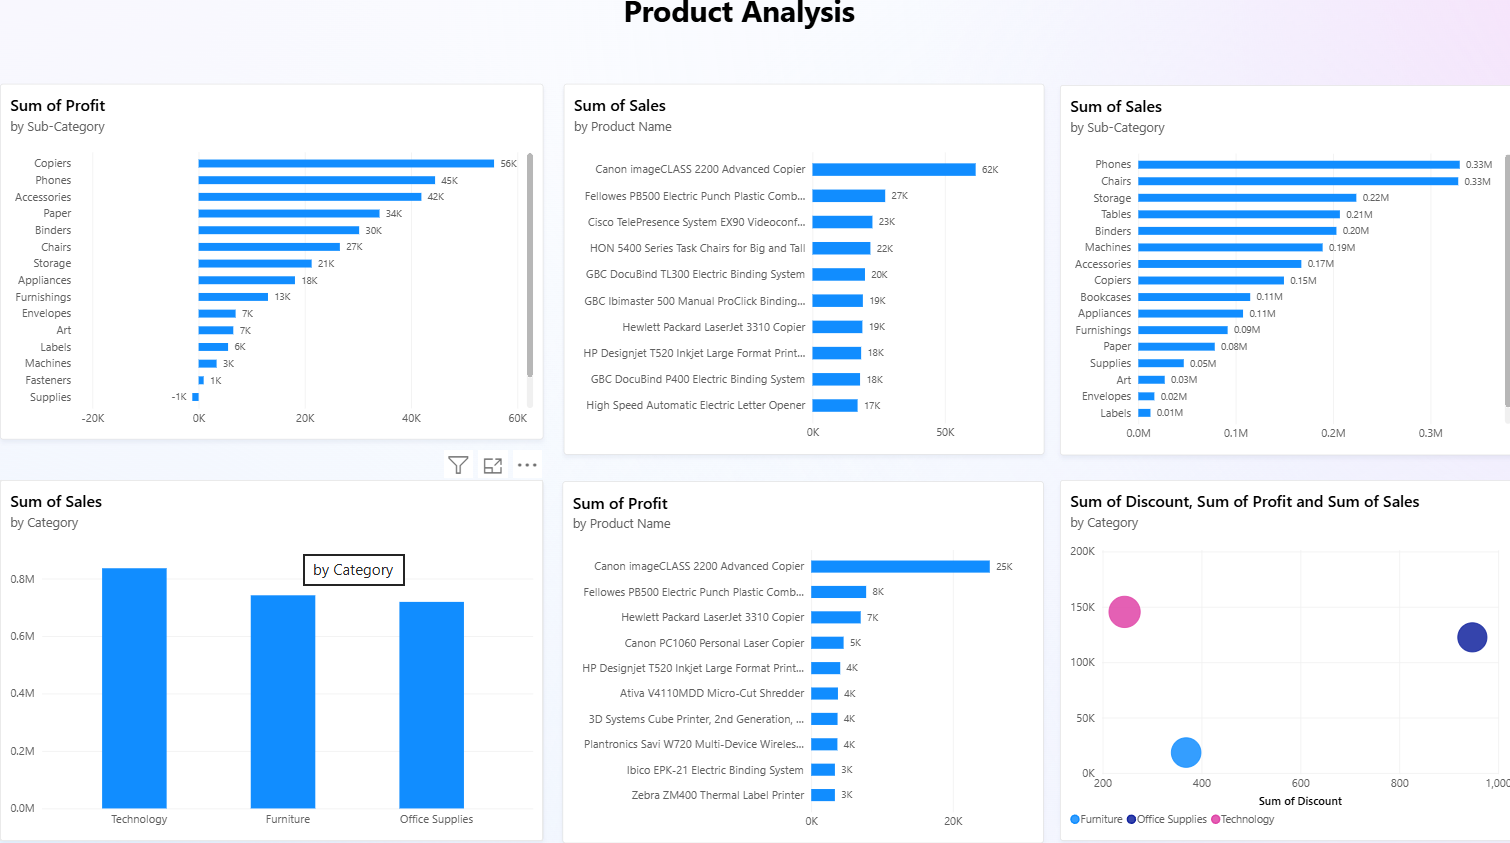

This screenshot's page, from the dashboard's own definition file:
{"tool":"powerbi","page":{"name":"Product Analysis","canvas":[1920,1080],"ordinal":1},"visuals":[{"type":"clusteredBarChart","fields":{"Category":["superstore_cleaned(1).Sub-Category"],"Y":["Sum(superstore_cleaned(1).Sales)"]},"box":[1337.5,120,582.5,467.2],"z":0},{"type":"clusteredBarChart","fields":{"Category":["superstore_cleaned(1).Sub-Category"],"Y":["Sum(superstore_cleaned(1).Profit)"]},"box":[0,118.5,685.9,449],"z":1},{"type":"clusteredColumnChart","fields":{"Category":["superstore_cleaned(1).Category"],"Y":["Sum(superstore_cleaned(1).Sales)"]},"box":[0,618.9,685.9,455.2],"z":2},{"type":"scatterChart","fields":{"Series":["superstore_cleaned(1).Category"],"Size":["Sum(superstore_cleaned(1).Sales)"],"X":["Sum(superstore_cleaned(1).Discount)"],"Y":["Sum(superstore_cleaned(1).Profit)"]},"box":[1337.5,618.9,583,455.2],"z":3},{"type":"clusteredBarChart","fields":{"Category":["superstore_cleaned(1).Product Name"],"Y":["Sum(superstore_cleaned(1).Sales)"]},"box":[710.9,118.5,606.4,467.7],"z":4},{"type":"clusteredBarChart","fields":{"Category":["superstore_cleaned(1).Product Name"],"Y":["Sum(superstore_cleaned(1).Profit)"]},"box":[710.1,619.6,607.2,456.9],"z":5},{"type":"textbox","box":[0,0,502,375],"z":6},{"type":"textbox","box":[483.3,0,899.5,76.4],"z":7}]}

Visuals, with their boxes in screenshot pixels (x1, y1, x2, y2), scaled from the page's 1920x1080 canvas onto the 1510x843 screenshot:
clusteredBarChart - superstore_cleaned(1).Sub-Category x Sum(superstore_cleaned(1).Sales): region(1052, 94, 1509, 458)
clusteredBarChart - superstore_cleaned(1).Sub-Category x Sum(superstore_cleaned(1).Profit): region(0, 92, 539, 443)
clusteredColumnChart - superstore_cleaned(1).Category x Sum(superstore_cleaned(1).Sales): region(0, 483, 539, 838)
scatterChart - superstore_cleaned(1).Category x Sum(superstore_cleaned(1).Sales): region(1052, 483, 1509, 838)
clusteredBarChart - superstore_cleaned(1).Product Name x Sum(superstore_cleaned(1).Sales): region(559, 92, 1036, 458)
clusteredBarChart - superstore_cleaned(1).Product Name x Sum(superstore_cleaned(1).Profit): region(558, 484, 1036, 840)
textbox: region(0, 0, 395, 293)
textbox: region(380, 0, 1088, 60)
